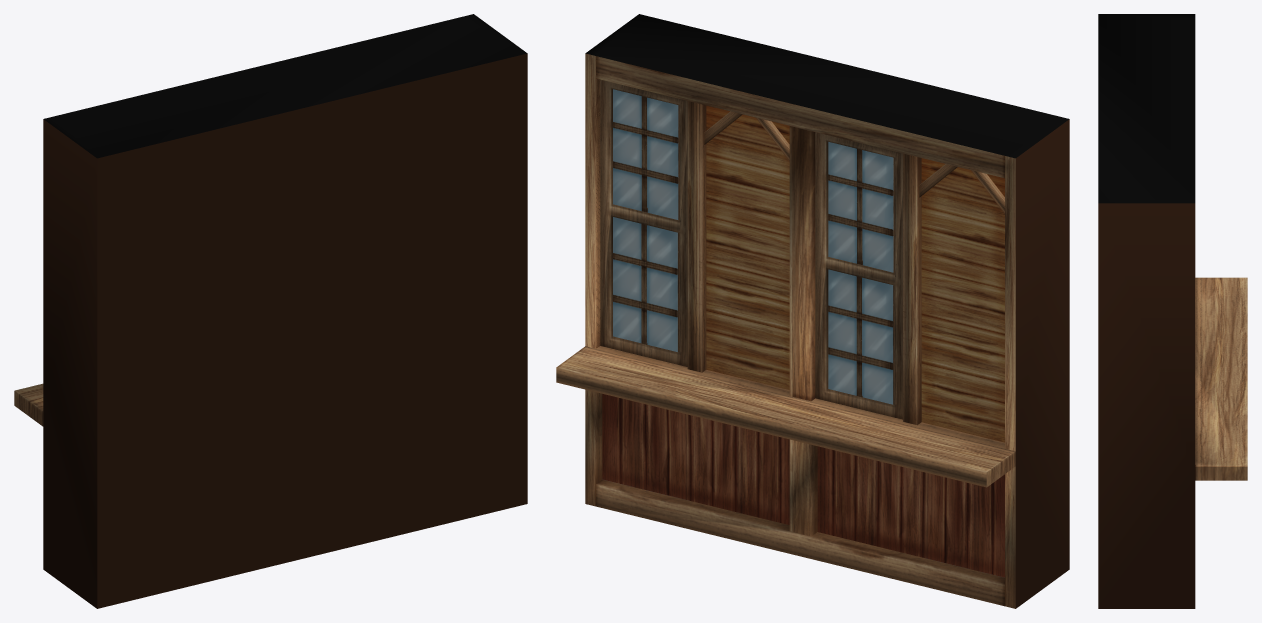
File: a_SWGowall01B.glb
3 renders of one model, left to right at view 1: azimuth 30°, elevation 25°; view 2: azimuth 150°, elevation 25°; view 3: azimuth 270°, elevation 25°, orthographic. The views are drawn at different scales.
Parts seen in each view (by area): view 1: a_SWGowall01B; view 2: a_SWGowall01B; view 3: a_SWGowall01B.
Part boxes in pixels (box(x1,y1,x2,y2)): a_SWGowall01B: box(14, 14, 527, 608); a_SWGowall01B: box(556, 14, 1069, 608); a_SWGowall01B: box(1098, 14, 1247, 608).
Size of the model in its own units: 3 by 3 by 1.
Materials: 3 (3 with a texture image).
